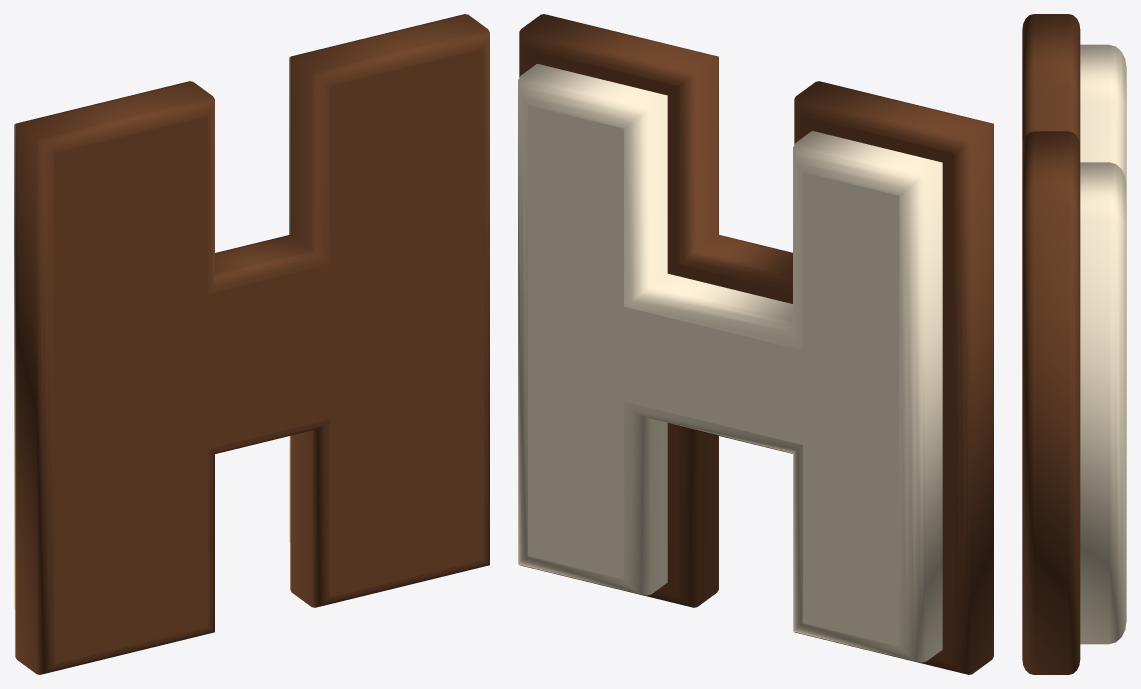
Rendered from Letter_H.fbx.
The picture shows the model from 3 angles, left to right: view 1: azimuth 30°, elevation 25°; view 2: azimuth 150°, elevation 25°; view 3: azimuth 270°, elevation 25°; orthographic projection. The views are drawn at different scales.
Parts seen in each view (by area): view 1: Letter_H; view 2: Letter_H; view 3: Letter_H.
Part boxes in pixels (x1=…): Letter_H: x1=14, y1=14, x2=489, y2=674; Letter_H: x1=518, y1=14, x2=993, y2=674; Letter_H: x1=1022, y1=14, x2=1126, y2=674.
Size of the model in its own units: 0.788 by 0.892 by 0.18.
Materials: 1 (1 with a texture image).
